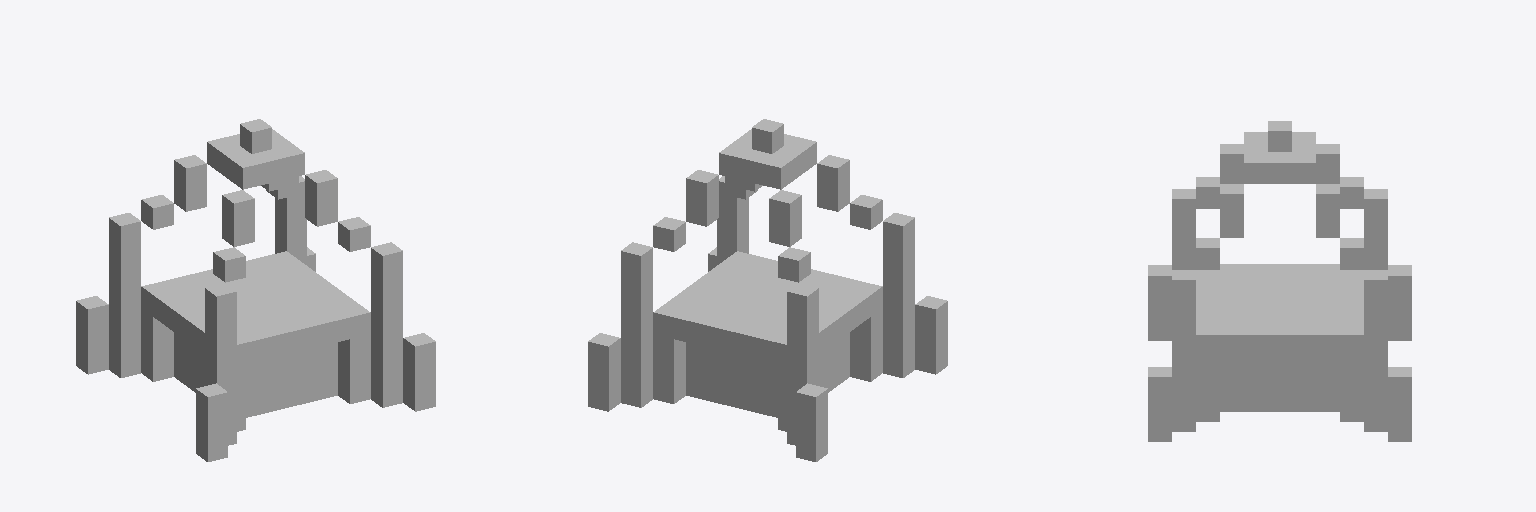
File: MineHut.obj
3 renders of one model, left to right at view 1: azimuth 30°, elevation 25°; view 2: azimuth 150°, elevation 25°; view 3: azimuth 270°, elevation 25°, orthographic.
Visible parts, largest first — view 1: Untitled; view 2: Untitled; view 3: Untitled.
Boxes of the visible parts, box(x1,y1,x2,y2) form: Untitled: box(76, 119, 435, 461); Untitled: box(588, 119, 947, 461); Untitled: box(1148, 121, 1411, 441).
Bounding box in the file's own units: 1.1 × 1.2 × 1.1.